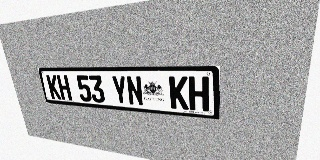3: (88, 75, 105, 103)
5: (76, 75, 93, 102)
H: (188, 76, 209, 111), (56, 75, 72, 100)
K: (169, 76, 189, 110), (46, 75, 61, 100)
N: (126, 76, 144, 106)
Y: (111, 76, 129, 105)
